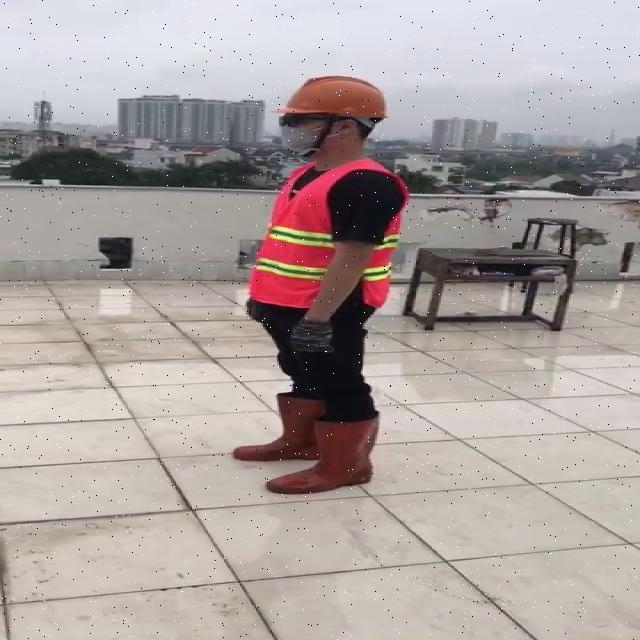Hard_hat: (271, 70, 398, 132)
Person: (231, 68, 430, 503)
Vest: (251, 157, 407, 312)
